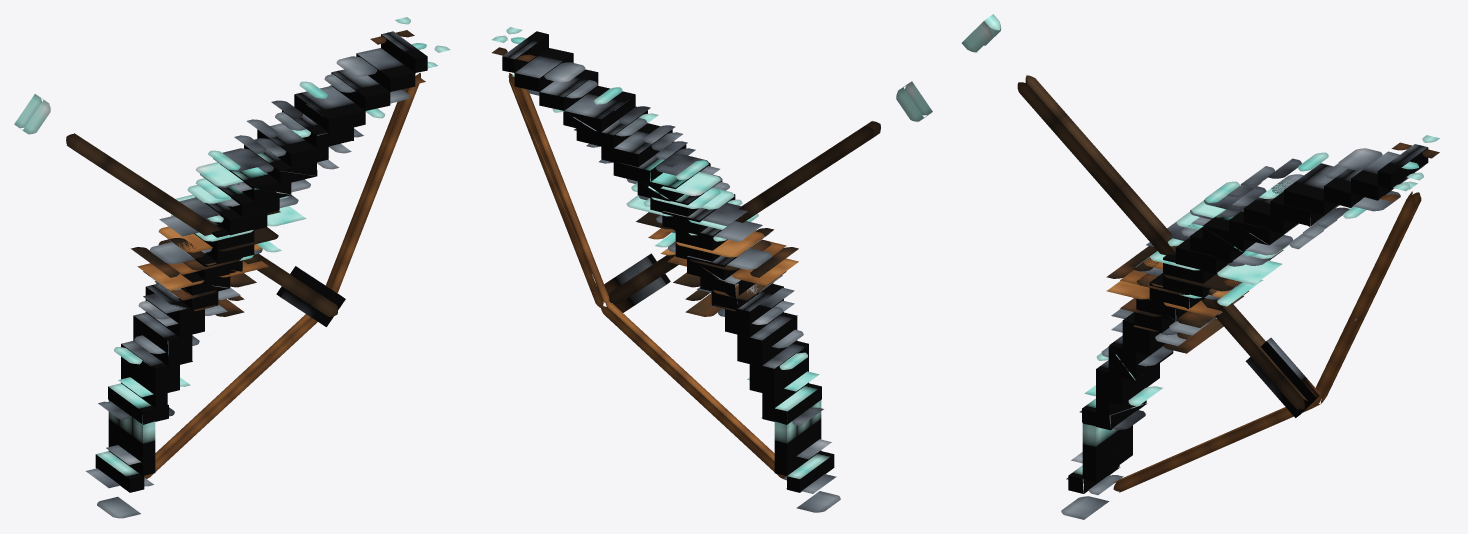
The model's file is deep_seam_bow_pulling_1.obj.
3 renders of one model, left to right at view 1: azimuth 30°, elevation 25°; view 2: azimuth 150°, elevation 25°; view 3: azimuth 330°, elevation 25°, orthographic. The views are drawn at different scales.
Visible parts, largest first — view 1: lit, fire; view 2: lit, fire; view 3: lit, fire.
Part boxes in pixels (x1=…): lit: x1=14, y1=17, x2=450, y2=518; fire: x1=95, y1=31, x2=427, y2=492; lit: x1=492, y1=27, x2=932, y2=512; fire: x1=502, y1=31, x2=834, y2=492; lit: x1=961, y1=14, x2=1439, y2=519; fire: x1=1068, y1=144, x2=1428, y2=493.
Bounding box in the file's own units: 1.08 × 1.06 × 0.1814.
